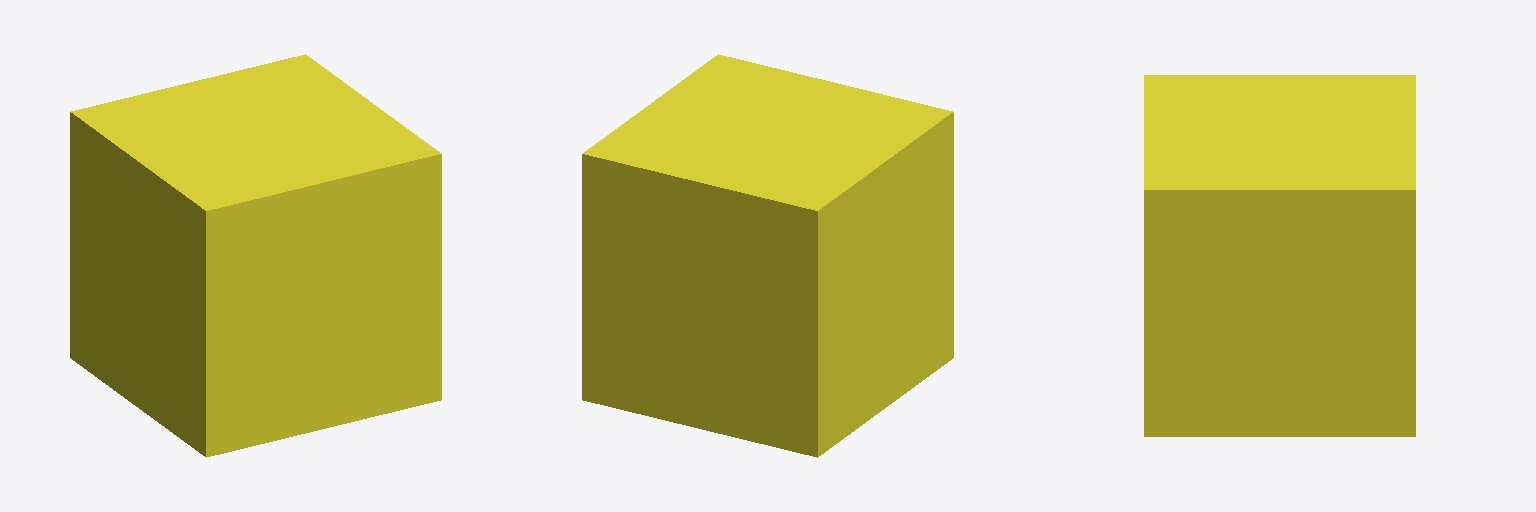
3 views of the same model, side by side, from view 1: azimuth 30°, elevation 25°; view 2: azimuth 150°, elevation 25°; view 3: azimuth 270°, elevation 25° (orthographic).
Visible parts, largest first — view 1: 立方体; view 2: 立方体; view 3: 立方体.
Part boxes in pixels (left/top/right/bottom): 立方体: left=70, top=54, right=441, bottom=457; 立方体: left=582, top=54, right=953, bottom=457; 立方体: left=1144, top=75, right=1415, bottom=436.
Size of the model in its own units: 0.6 by 0.6 by 0.6.
1 materials, 1 textured.